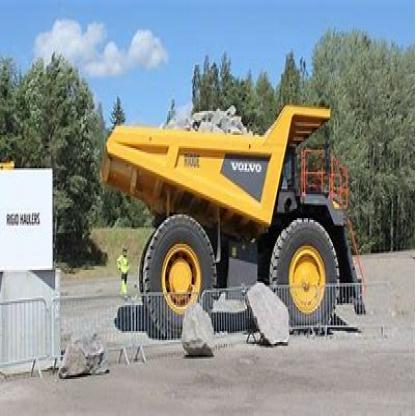dump_truck: (97, 94, 364, 342)
